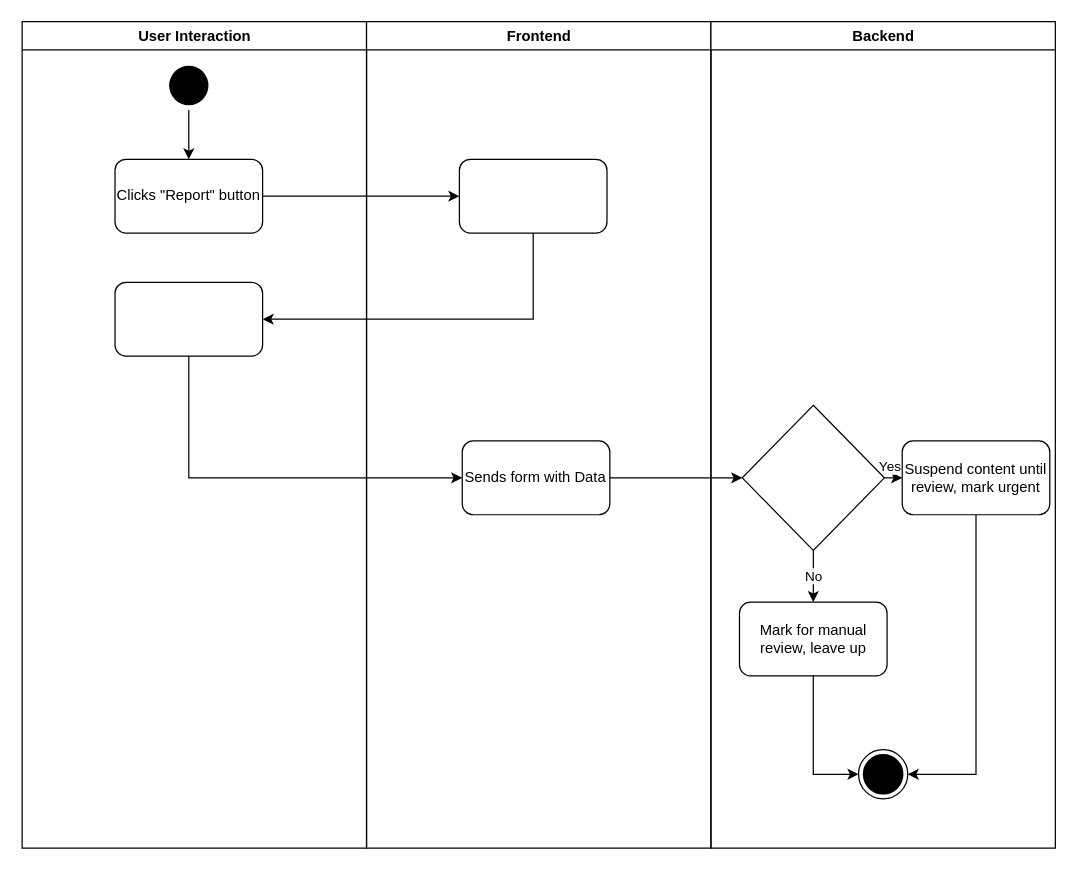
Image size: 1076x870. Some labels were removed from this diagram. The centre of each missing label's shape, as x and y in pixels:
Chooses violation: pixel 188 318
Dialog asking what kind of violation it is about: pixel 532 195
Have enough reviews for the same violation been filed?: pixel 812 477
